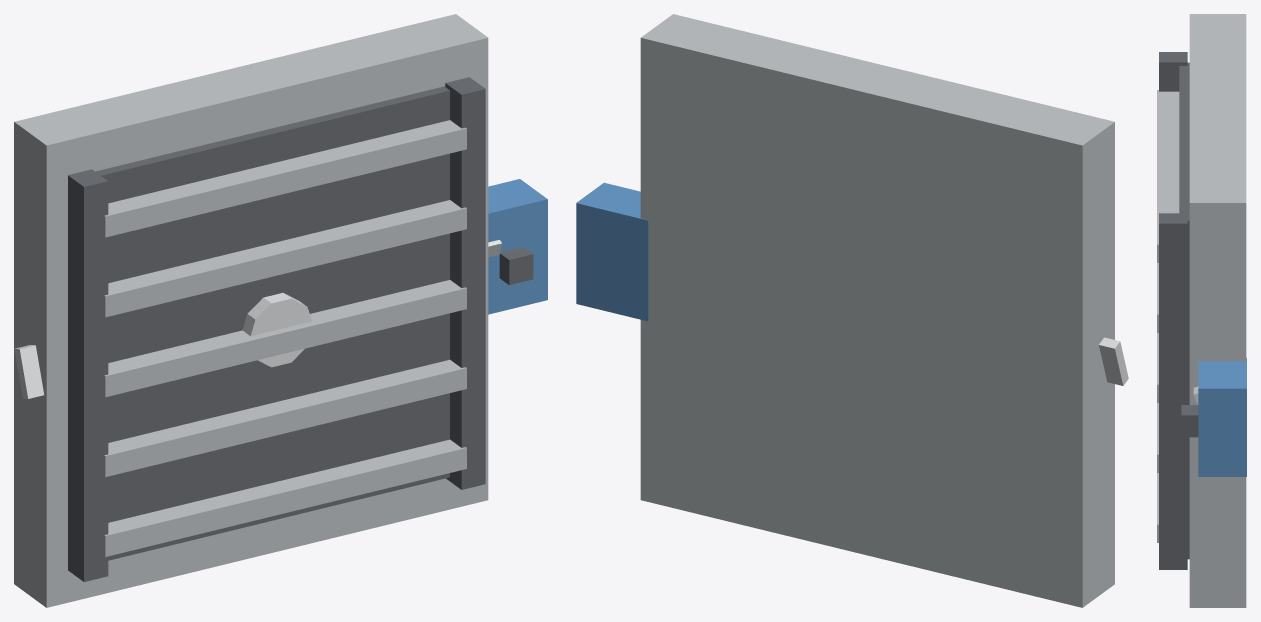
The model's file is parcel-depot-and-sorting-hall-parcel-depot-and-sorting-cbda8b33__34832.glb.
3 renders of one model, left to right at view 1: azimuth 30°, elevation 25°; view 2: azimuth 150°, elevation 25°; view 3: azimuth 270°, elevation 25°, orthographic. The views are drawn at different scales.
Parts seen in each view (by area): view 1: parcel-depot-and-sorting-hall-extractor-fan-panel, fan/steel (×2); view 2: parcel-depot-and-sorting-hall-extractor-fan-panel, fan/steel; view 3: parcel-depot-and-sorting-hall-extractor-fan-panel.
Boxes of the visible parts, <box> form: parcel-depot-and-sorting-hall-extractor-fan-panel: <box>14,14,547,607</box>; fan/steel (×2): <box>14,292,311,398</box>; parcel-depot-and-sorting-hall-extractor-fan-panel: <box>576,14,1114,607</box>; fan/steel: <box>1099,337,1128,385</box>; parcel-depot-and-sorting-hall-extractor-fan-panel: <box>1157,14,1246,607</box>.
Bounding box in the file's own units: 1.3 × 1.1 × 0.2212.
